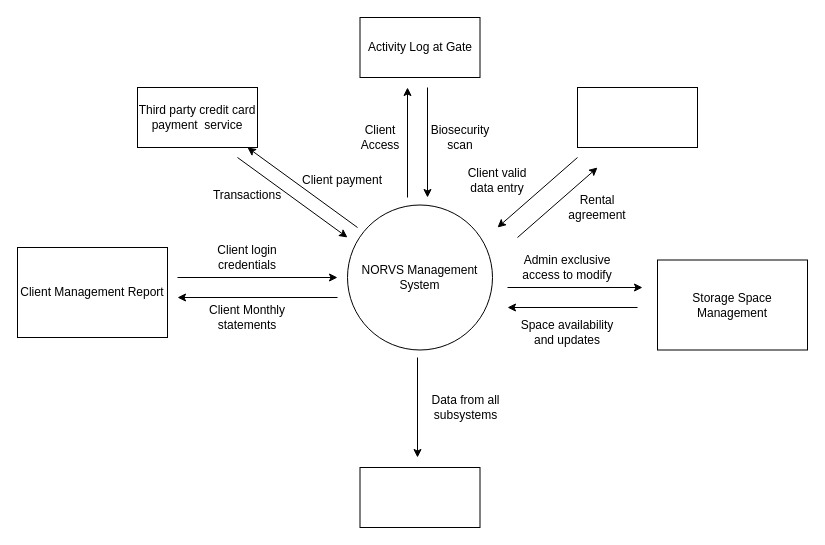
Image size: 825x545. Some labels were removed from this diagram. Here are the shapes that lost their labels. From the top down, the box of each, then its label:
(576, 86, 698, 148): Client Reservation request
(359, 466, 480, 528): Admin Management Report
